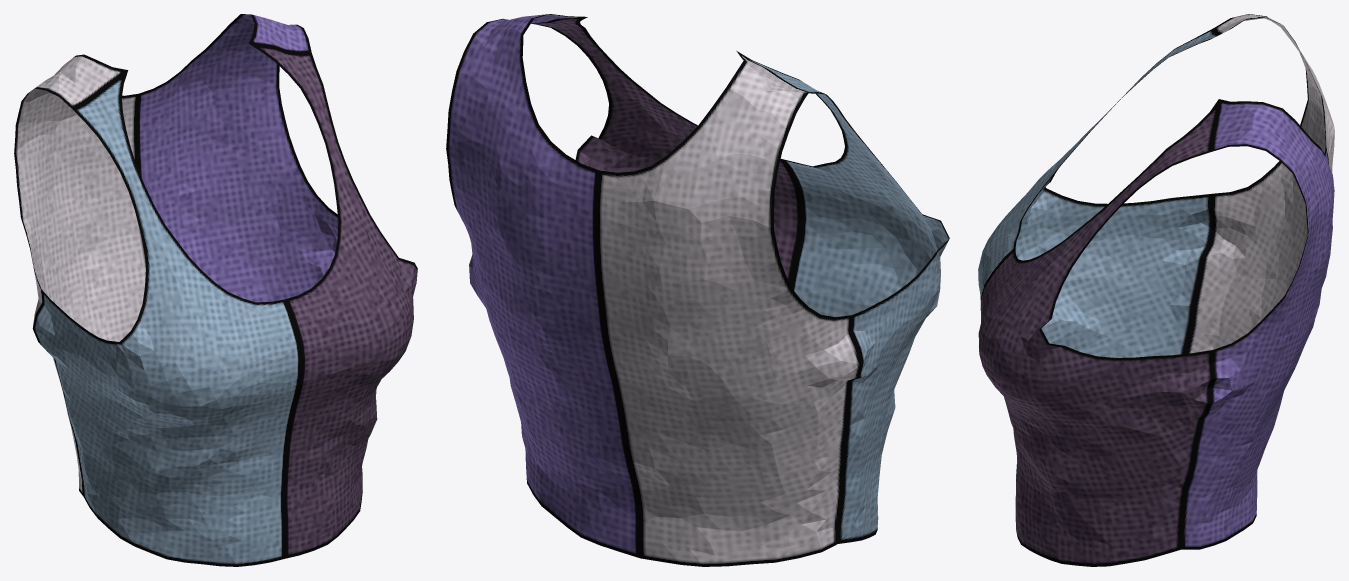
File: tank_knit4_sim.obj
3 views of the same model, side by side, from view 1: azimuth 30°, elevation 25°; view 2: azimuth 150°, elevation 25°; view 3: azimuth 270°, elevation 25° (orthographic). The views are drawn at different scales.
Size of the model in its own units: 22.03 by 29.2 by 20.36.
Materials: 1 (1 with a texture image).
